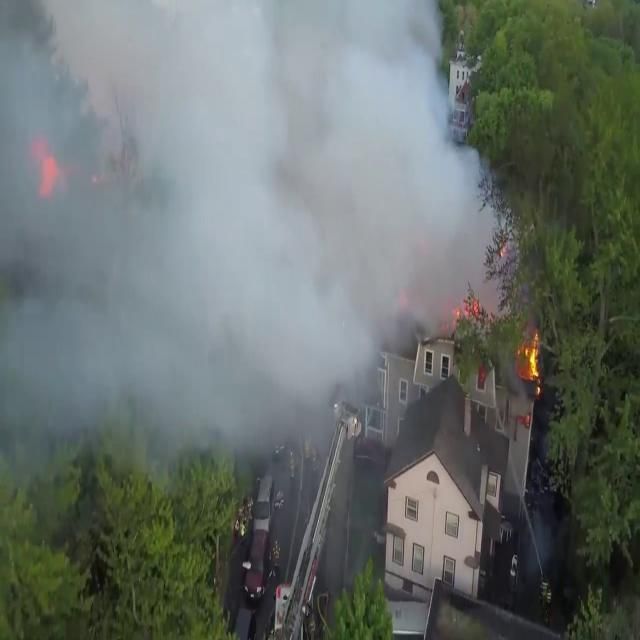Fire: (518, 328, 542, 390)
Smoke: (1, 0, 500, 499)
